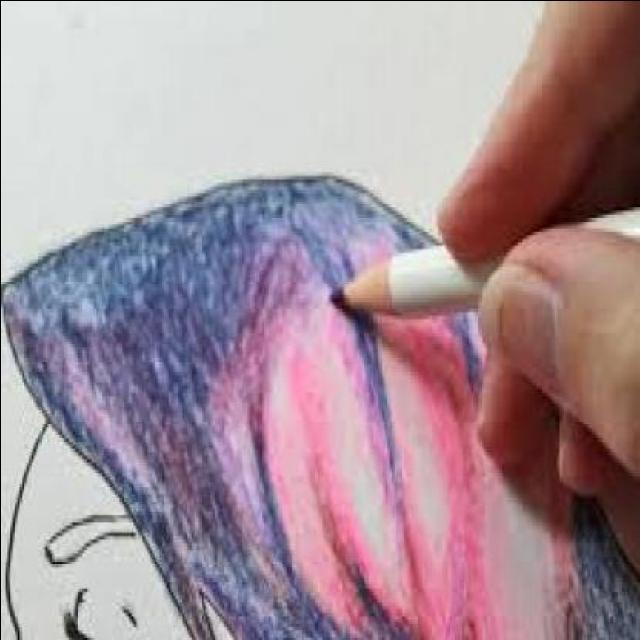pencil: (316, 242, 410, 330)
